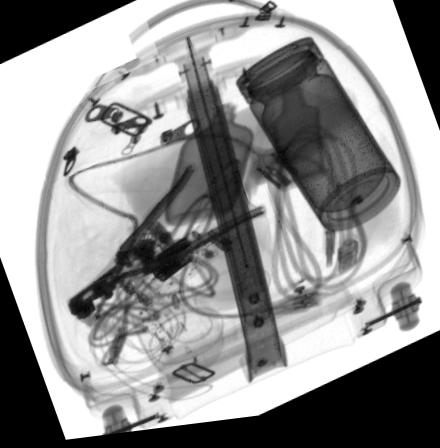Pliers: (67, 170, 262, 324)
